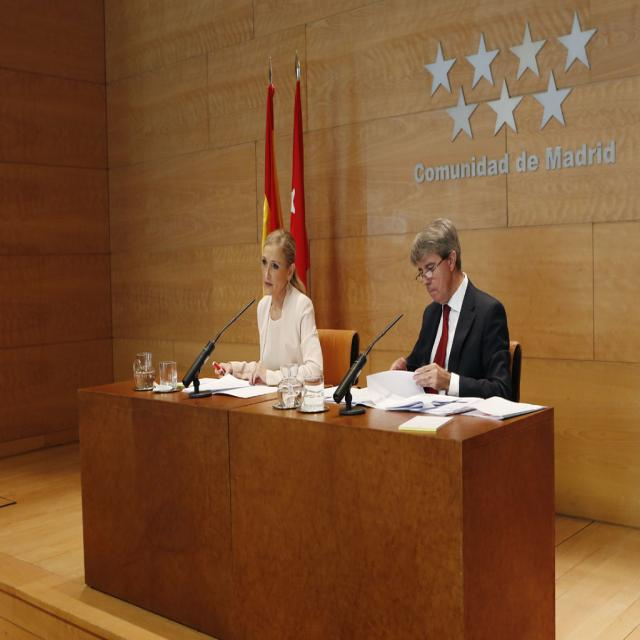chair: (316, 329, 360, 388), (509, 342, 522, 403)
desk: (72, 342, 558, 633)
person: (387, 217, 513, 400), (212, 228, 324, 390)
